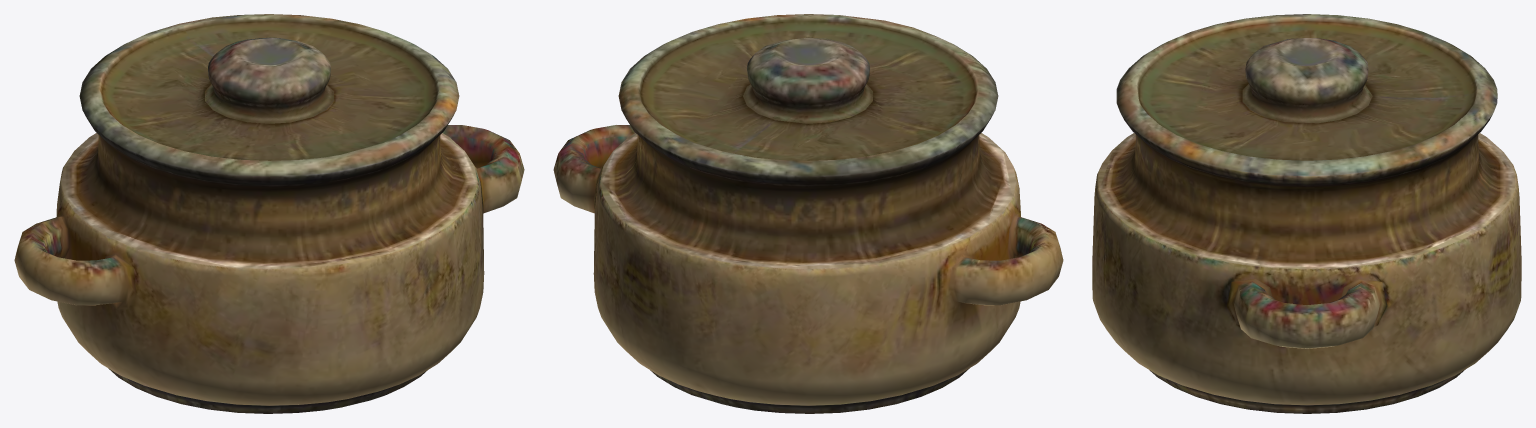
Rendered from claypot.glb.
The picture shows the model from 3 angles, left to right: view 1: azimuth 30°, elevation 25°; view 2: azimuth 150°, elevation 25°; view 3: azimuth 270°, elevation 25°; orthographic projection.
Parts seen in each view (by area): view 1: ceramic_pot; view 2: ceramic_pot; view 3: ceramic_pot.
Part boxes in pixels (x1=…): ceramic_pot: x1=14, y1=14, x2=524, y2=413; ceramic_pot: x1=553, y1=14, x2=1063, y2=413; ceramic_pot: x1=1092, y1=14, x2=1521, y2=413.
Size of the model in its own units: 0.6563 by 0.3717 by 0.5005.
Materials: 1 (1 with a texture image).
